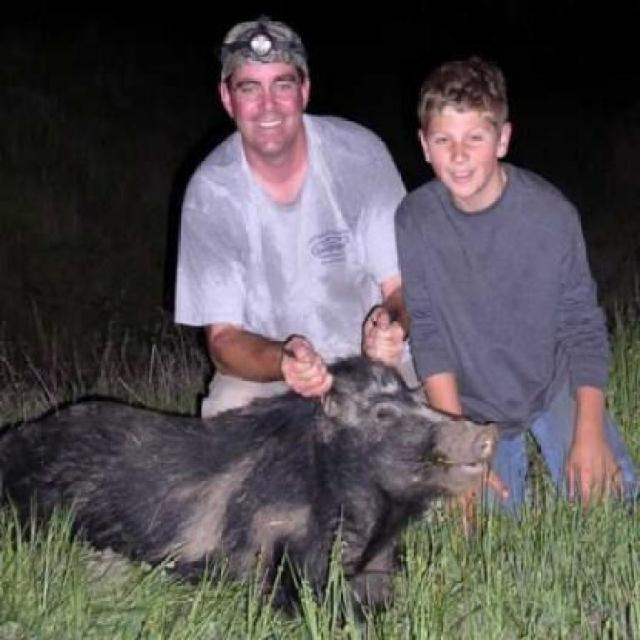pig: (22, 331, 513, 639)
